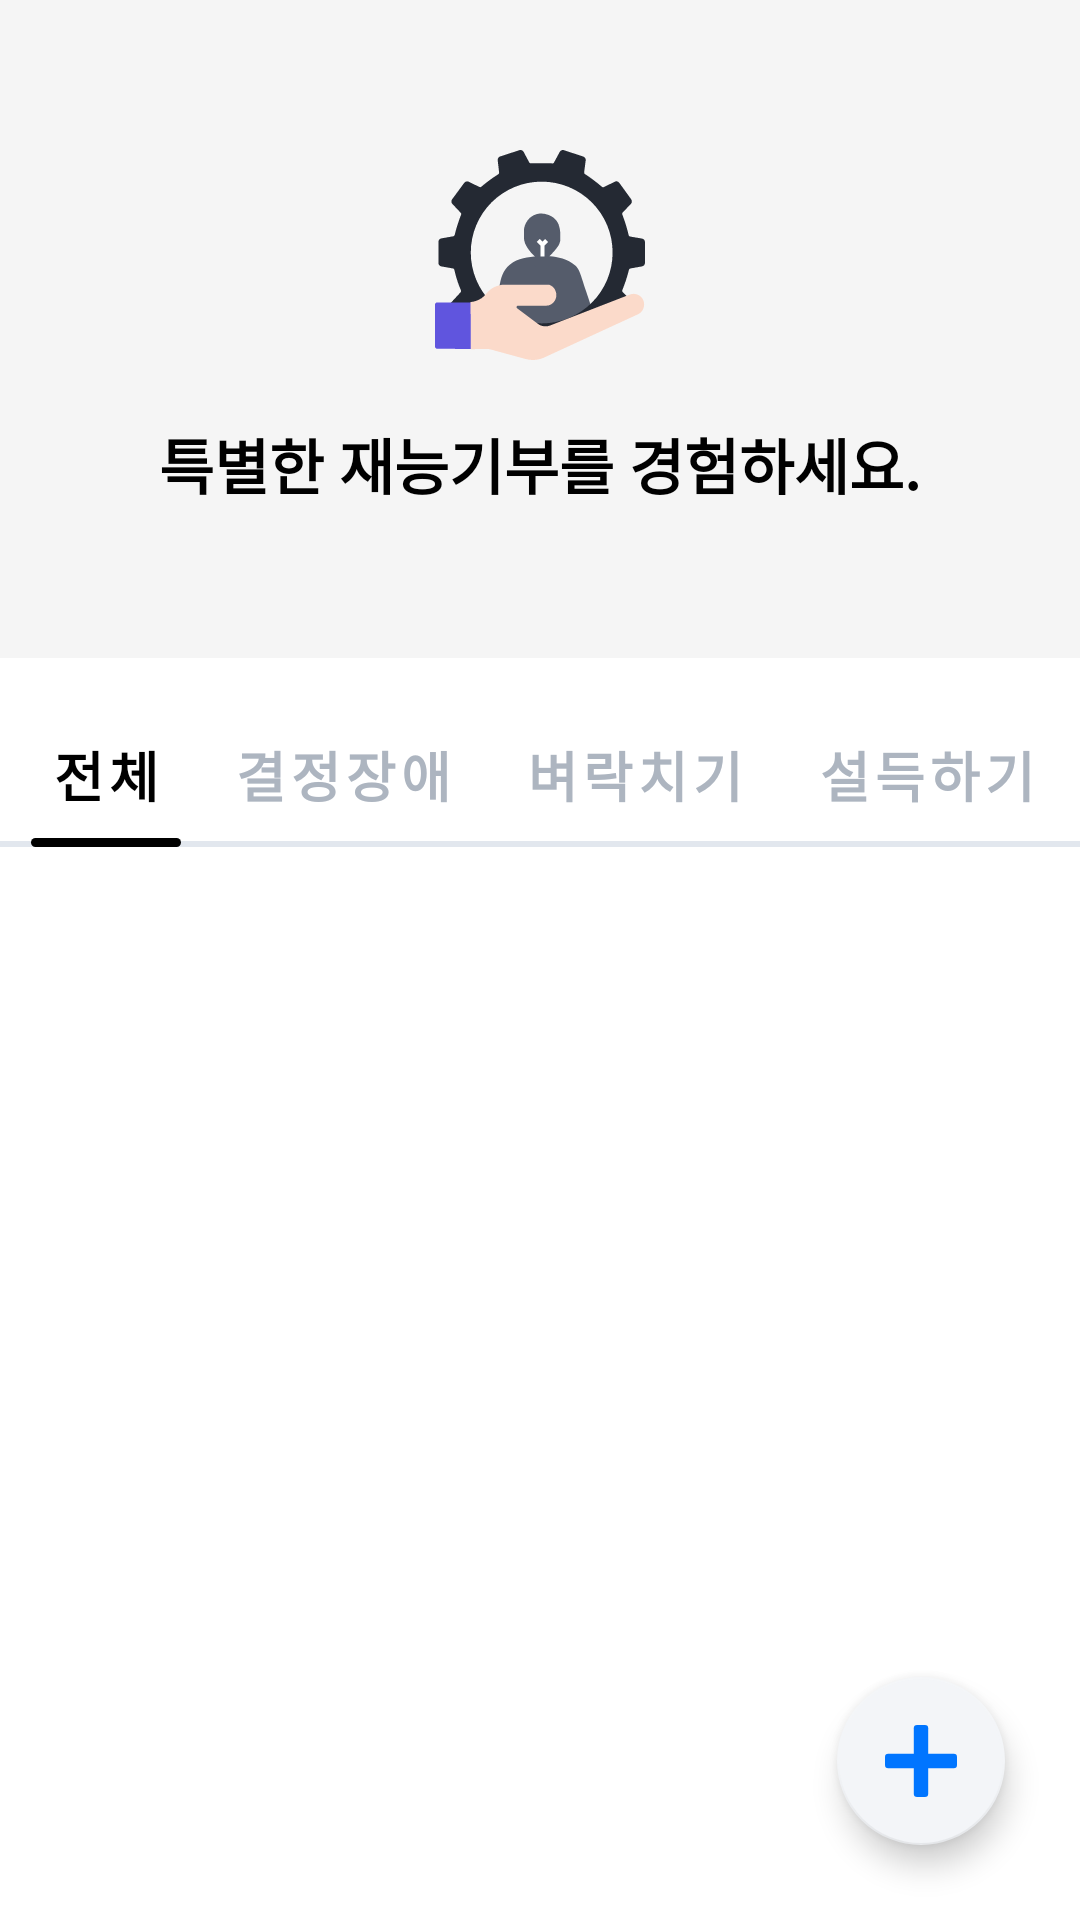

Icon bounding boxes for this 1080px x 1920px phone screenshot, format [x1,y1,x2,y2]:
add: [837,1677,1005,1845]
give talent: [435,150,645,360]
